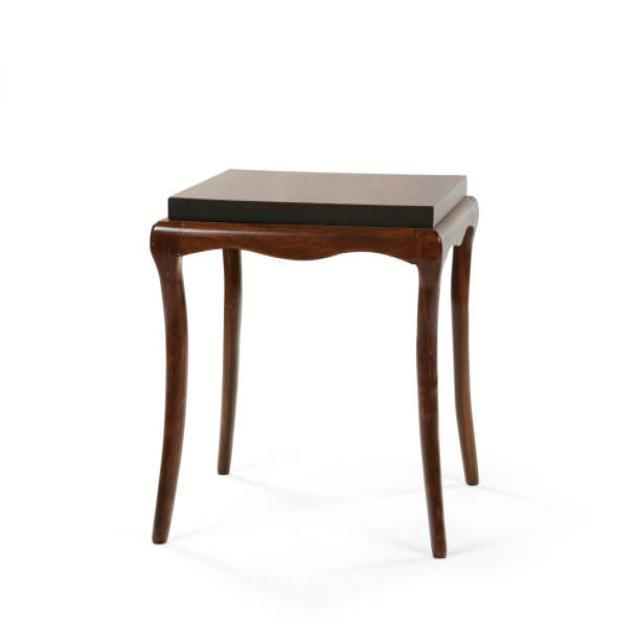table: (148, 166, 480, 558)
